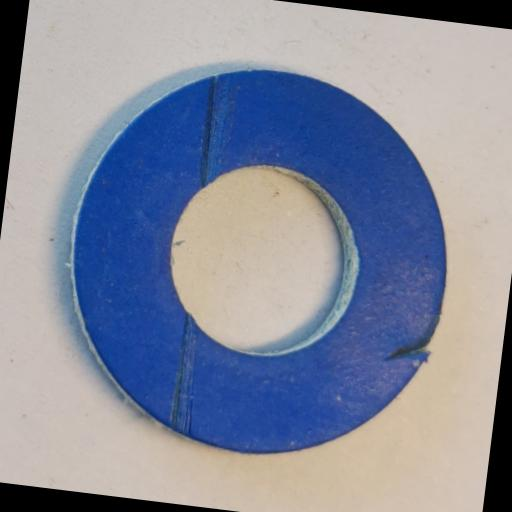defect: (168, 314, 205, 436), (198, 72, 235, 190), (383, 309, 439, 367)
